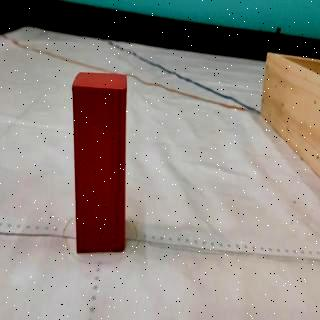redbox: (72, 72, 128, 255)
